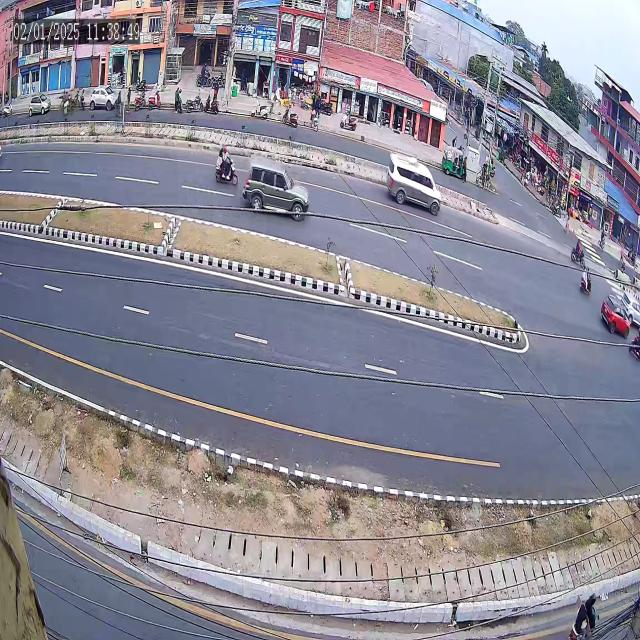car: (240, 142, 307, 238), (601, 288, 630, 349)
motorcycle: (209, 135, 241, 190), (566, 232, 585, 269), (576, 258, 592, 296)
van: (380, 144, 441, 235)
